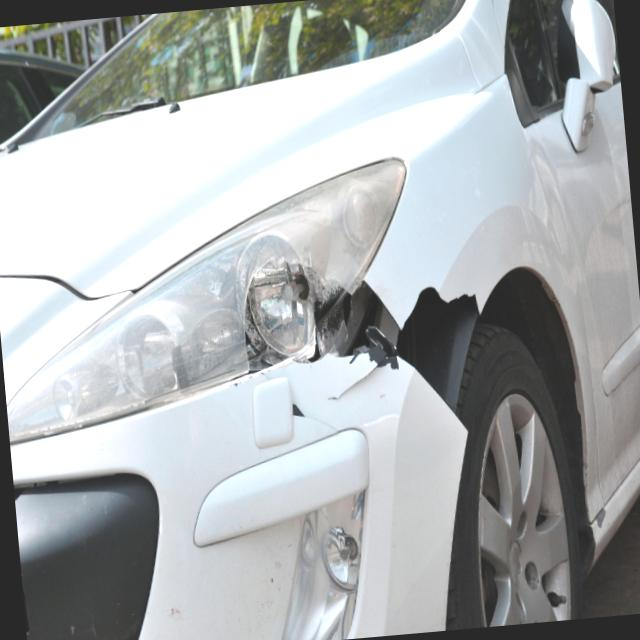Dechirure: (300, 250, 498, 484)
Phare abime: (221, 236, 364, 379)
